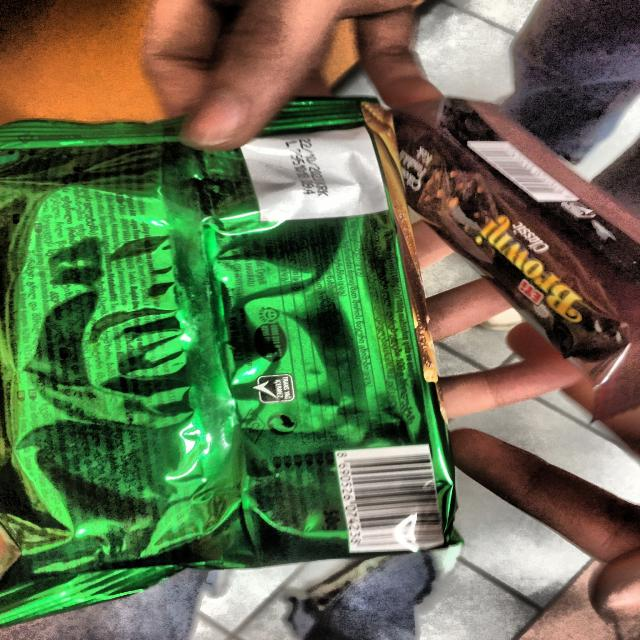Plastic: (7, 92, 484, 617), (384, 91, 640, 422)
